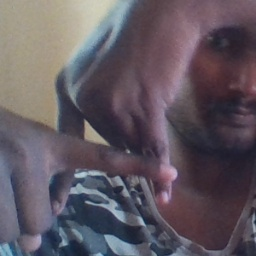H: (29, 78, 180, 213)
